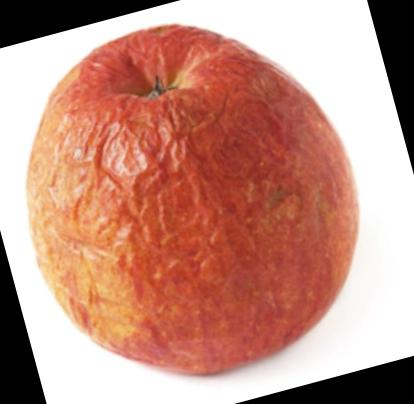Apple: (25, 21, 357, 376)
